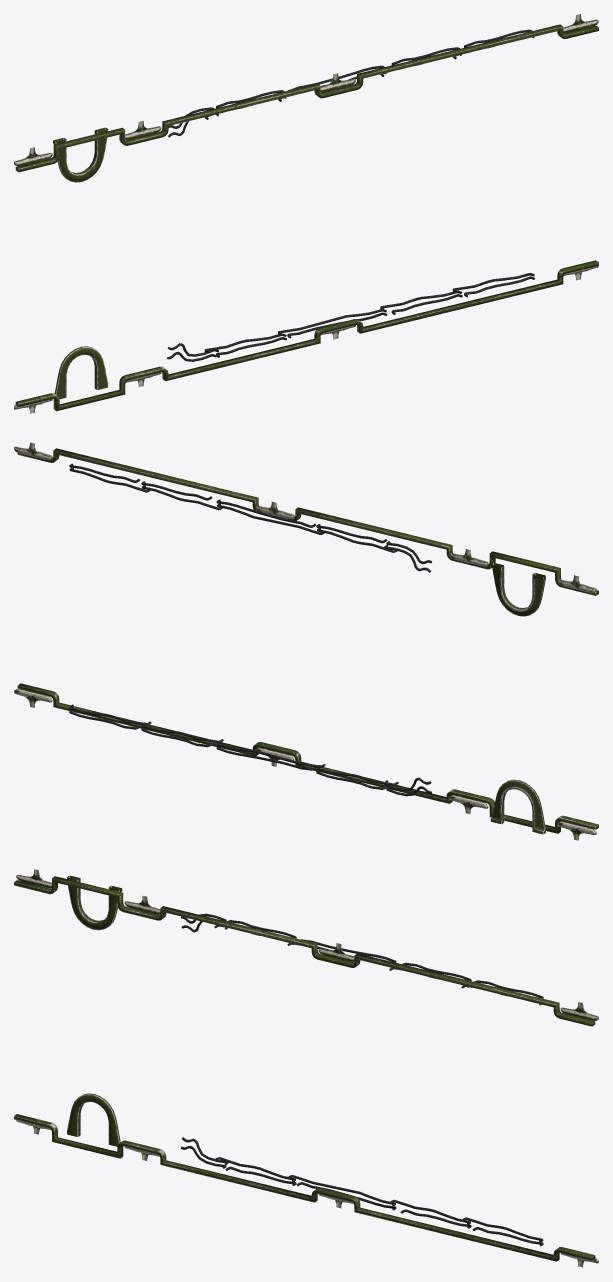
The model's file is Boss001_Platform.FBX.
3 views of the same model, one above another, from view 1: azimuth 30°, elevation 25°; view 2: azimuth 150°, elevation 25°; view 3: azimuth 330°, elevation 25° (orthographic).
Parts seen in each view (by area): view 1: Boss001_Platform; view 2: Boss001_Platform; view 3: Boss001_Platform.
Part boxes in pixels (<box>): Boss001_Platform: <box>14,14,598,413</box>; Boss001_Platform: <box>14,442,598,840</box>; Boss001_Platform: <box>14,869,598,1267</box>.
Bounding box in the file's own units: 5998 × 2605 × 191.
Materials: 1 (1 with a texture image).
